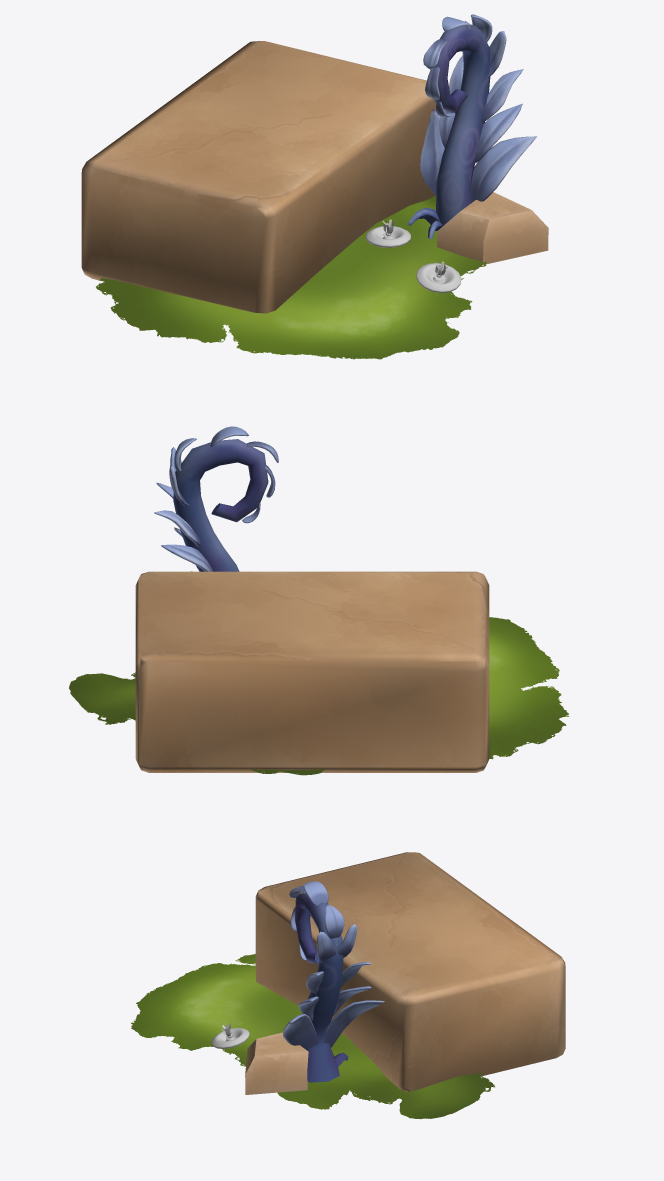
Rendered from Vegetation_Group_4.fbx.
The picture shows the model from 3 angles, top to bottom: view 1: azimuth 30°, elevation 25°; view 2: azimuth 150°, elevation 25°; view 3: azimuth 270°, elevation 25°; orthographic projection. The views are drawn at different scales.
Parts seen in each view (by area): view 1: MS_Remains1, Moss_Plane, MS_Fern, MS_Remains2, MS_RoundPlant1, MS_RoundPlant2; view 2: MS_Remains1, Moss_Plane, MS_Fern; view 3: MS_Remains1, Moss_Plane, MS_Fern, MS_Remains2, MS_RoundPlant1.
Part boxes in pixels (bbox=[...]): MS_Remains1: bbox=[81, 41, 436, 313]; Moss_Plane: bbox=[96, 195, 486, 359]; MS_Fern: bbox=[407, 14, 536, 239]; MS_Remains2: bbox=[437, 192, 548, 264]; MS_RoundPlant1: bbox=[416, 261, 461, 292]; MS_RoundPlant2: bbox=[365, 219, 410, 247]; MS_Remains1: bbox=[135, 571, 489, 772]; Moss_Plane: bbox=[69, 617, 568, 775]; MS_Fern: bbox=[154, 426, 278, 571]; MS_Remains1: bbox=[255, 852, 565, 1091]; Moss_Plane: bbox=[131, 954, 494, 1119]; MS_Fern: bbox=[283, 881, 384, 1082]; MS_Remains2: bbox=[245, 1032, 308, 1094]; MS_RoundPlant1: bbox=[211, 1023, 249, 1048].
Bounding box in the file's own units: 15.67 × 5.38 × 15.67.
